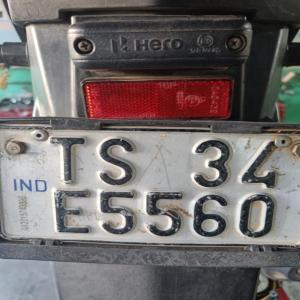Plate: (42, 127, 286, 243)
